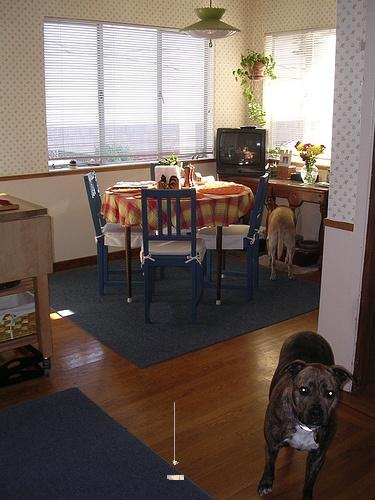tampered: (168, 403, 184, 480)
